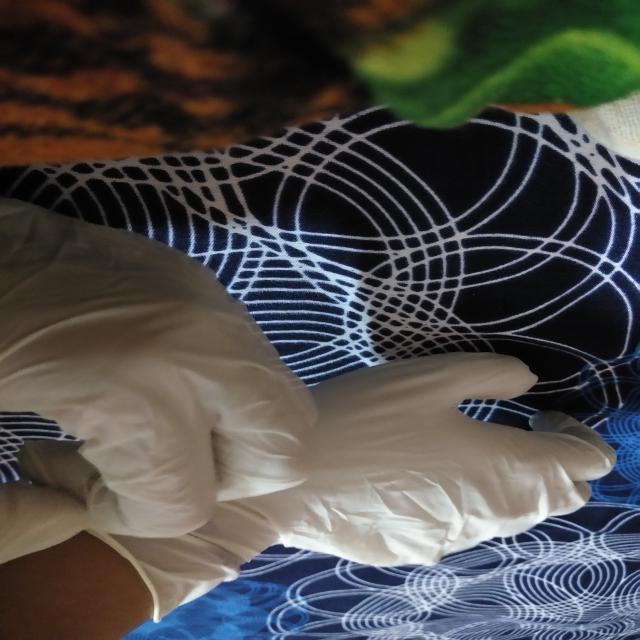gloved_hand: (24, 348, 625, 626), (0, 187, 325, 569)
